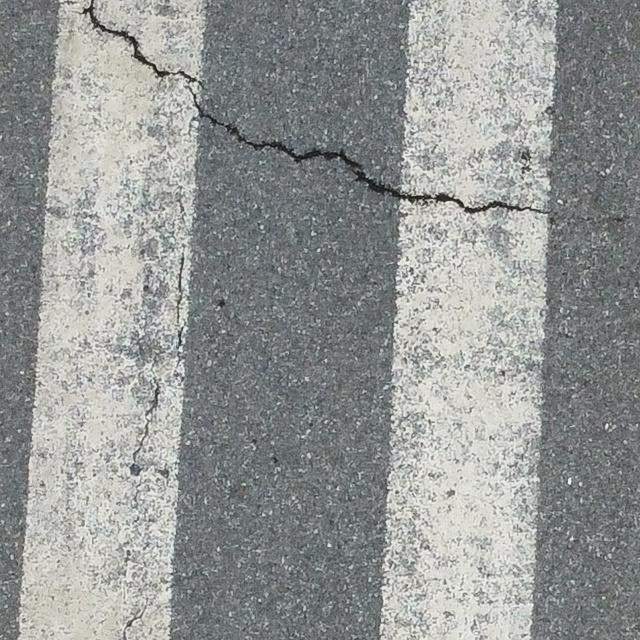TransverseCrack: (85, 1, 552, 216)
